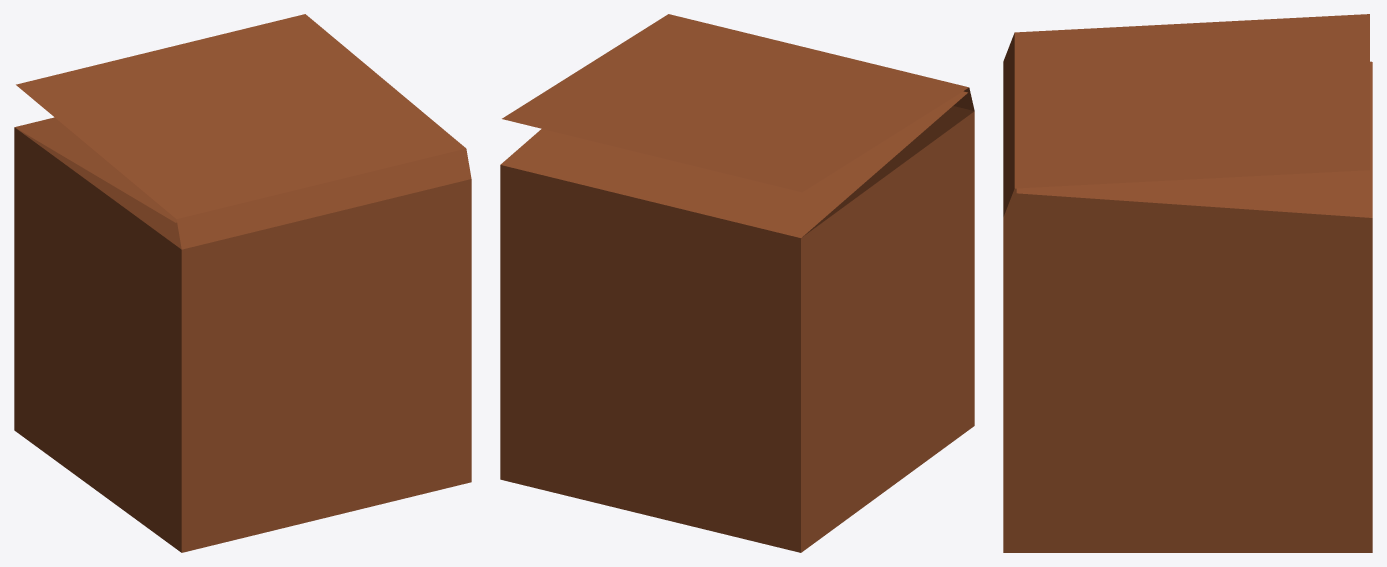
The model's file is caixa.fbx.
3 views of the same model, side by side, from view 1: azimuth 30°, elevation 25°; view 2: azimuth 150°, elevation 25°; view 3: azimuth 270°, elevation 25° (orthographic). The views are drawn at different scales.
Visible parts, largest first — view 1: Cube; view 2: Cube; view 3: Cube.
Part boxes in pixels (left/top/right/bottom): Cube: left=14, top=14, right=471, bottom=552; Cube: left=500, top=14, right=974, bottom=552; Cube: left=1003, top=14, right=1372, bottom=552.
Bounding box in the file's own units: 200 × 229 × 200.
